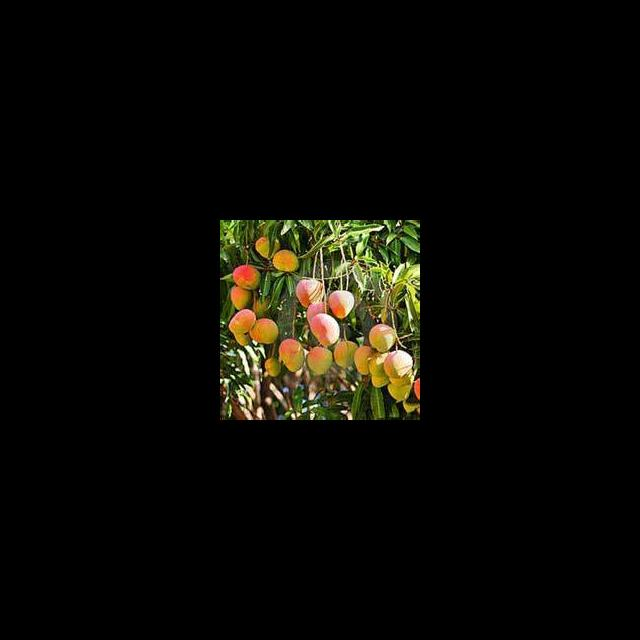mango: (311, 313, 341, 349), (228, 309, 256, 347), (295, 278, 325, 309), (368, 324, 398, 354), (279, 339, 305, 373), (383, 351, 412, 379), (250, 318, 279, 345), (307, 347, 334, 376), (232, 265, 260, 291), (333, 341, 358, 369), (272, 249, 300, 273)
